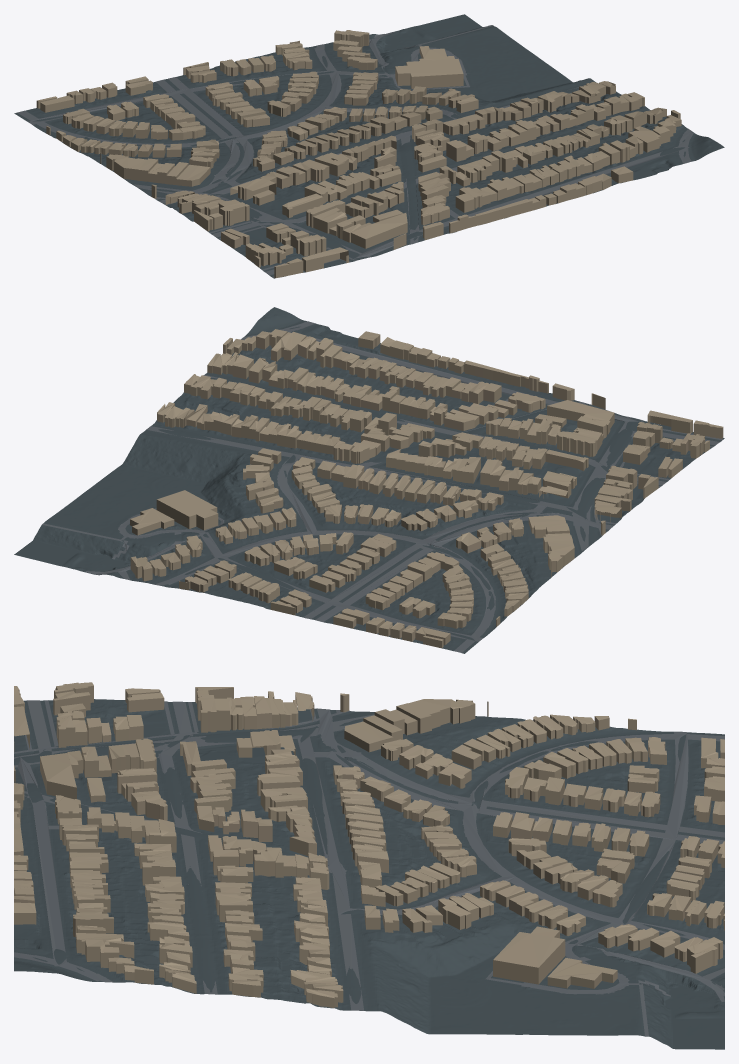
The model's file is epsg26910-1434-10876.lod0.glb.
3 views of the same model, one above another, from view 1: azimuth 30°, elevation 25°; view 2: azimuth 150°, elevation 25°; view 3: azimuth 270°, elevation 25° (orthographic). The views are drawn at different scales.
Parts seen in each view (by area): view 1: epsg26910-1434-10876-lod0; view 2: epsg26910-1434-10876-lod0; view 3: epsg26910-1434-10876-lod0.
Boxes of the visible parts, <box> form: epsg26910-1434-10876-lod0: <box>14,14,724,278</box>; epsg26910-1434-10876-lod0: <box>14,307,724,653</box>; epsg26910-1434-10876-lod0: <box>14,682,724,1049</box>.
Bounding box in the file's own units: 384 × 50.47 × 384.
